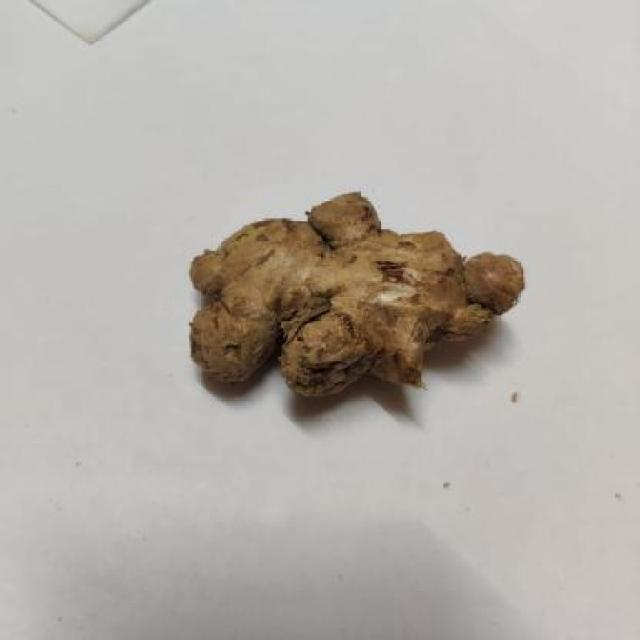Ginger: (148, 180, 557, 402)
